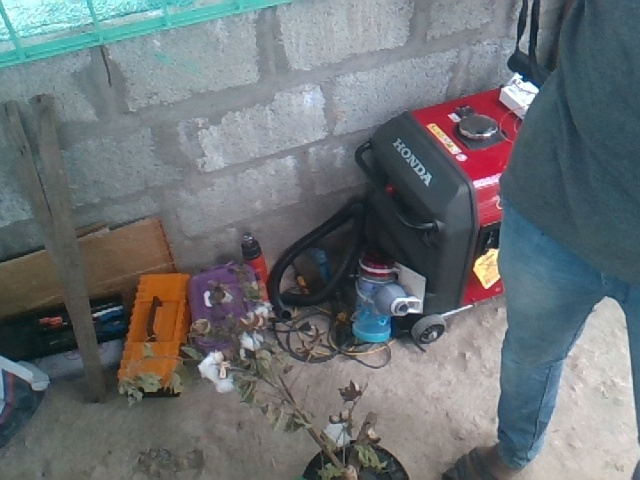cotton: (197, 351, 228, 395)
